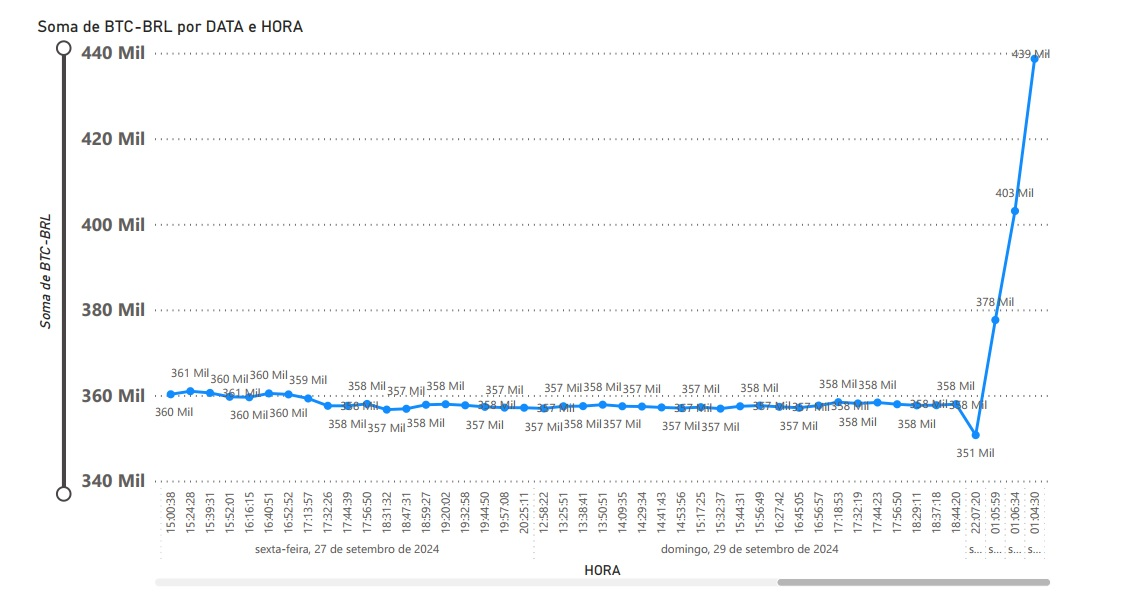

The page's visual inventory and layout, read from the dashboard file:
{"tool":"powerbi","page":{"name":"Página 1","canvas":[1280,720],"ordinal":0},"visuals":[{"type":"lineChart","fields":{"Category":["data.DATA","data.HORA"],"Y":["Sum(data.BTC-BRL)"]},"box":[128.2,43.2,1052.6,591.8],"z":0}]}

Visuals, with their boxes on the page's 1280x720 design canvas (x1, y1, x2, y2). These are canvas units, not pixel positions in the 1144x602 screenshot, which may show the page scaled, cropped or inside an application window:
lineChart - data.DATA x data.HORA: x1=128, y1=43, x2=1181, y2=635
